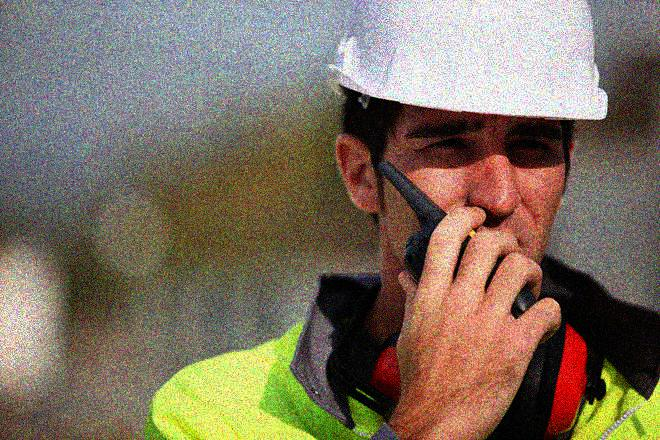helmet: (326, 1, 612, 284)
